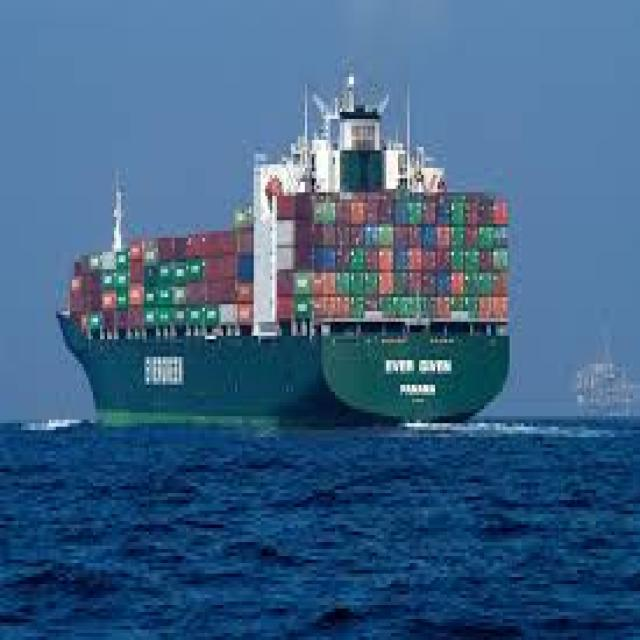cargoship: (61, 83, 519, 424)
